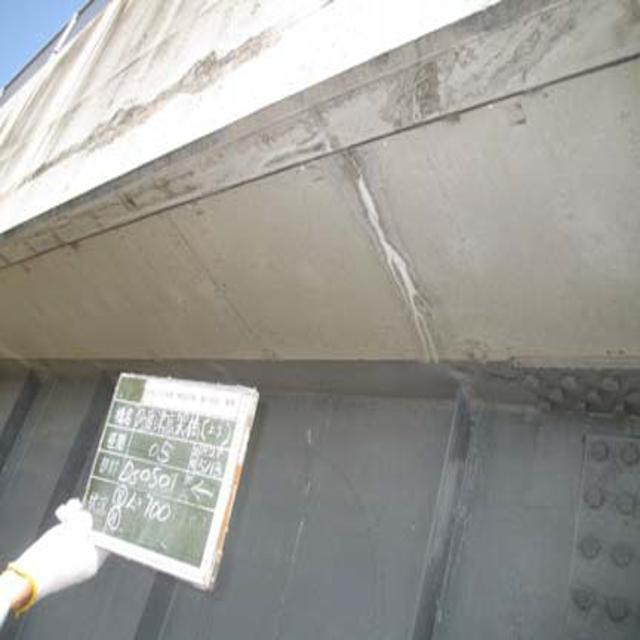freelime: (348, 162, 448, 362)
